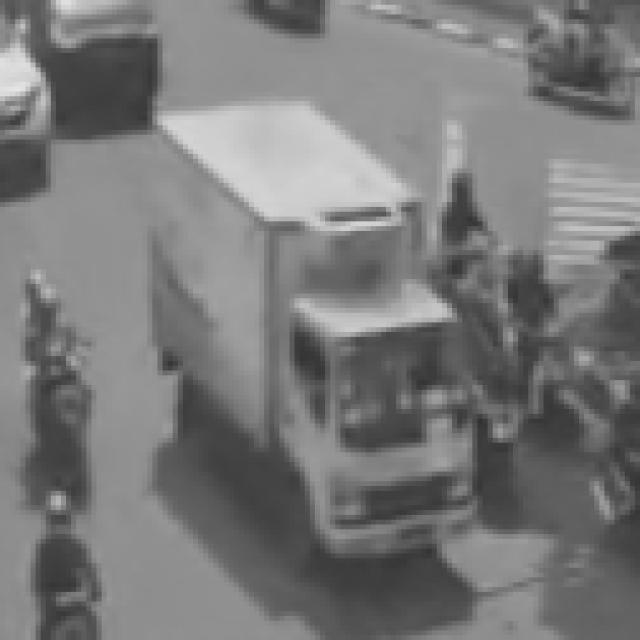Truck: (139, 70, 501, 594)
